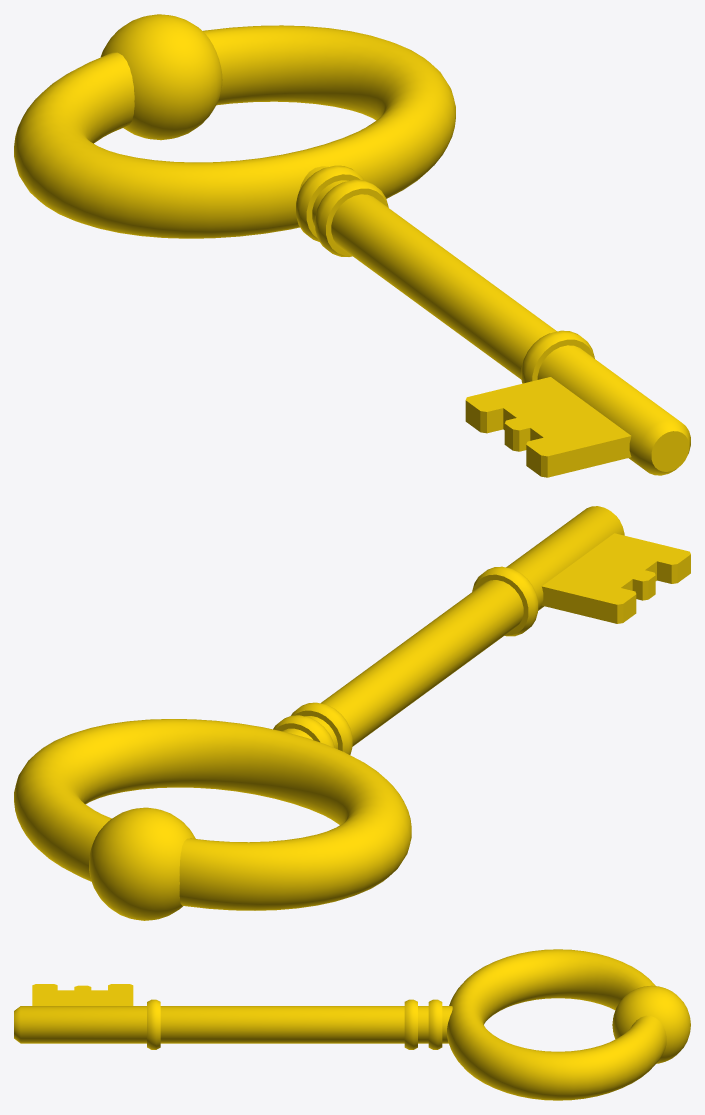
File: goldKey.fbx
The picture shows the model from 3 angles, top to bottom: view 1: azimuth 30°, elevation 25°; view 2: azimuth 150°, elevation 25°; view 3: azimuth 270°, elevation 25°; orthographic projection. The views are drawn at different scales.
Parts seen in each view (by area): view 1: key; view 2: key; view 3: key.
Boxes of the visible parts, x1,y1,x2,y2 form: key: [14, 14, 690, 477]; key: [14, 506, 690, 920]; key: [14, 949, 690, 1100].
Bounding box in the file's own units: 3.44 × 0.929 × 8.
